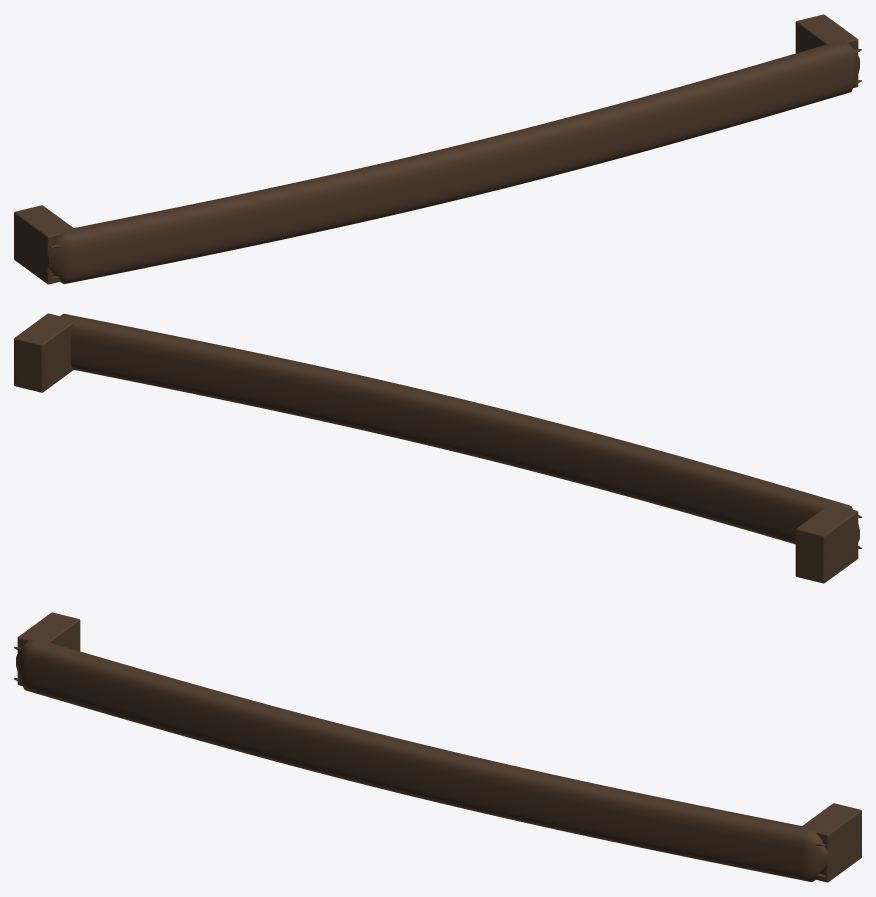
The model's file is eurofit-h-324-320orb-v3.glb.
The picture shows the model from 3 angles, top to bottom: view 1: azimuth 30°, elevation 25°; view 2: azimuth 150°, elevation 25°; view 3: azimuth 330°, elevation 25°; orthographic projection.
Visible parts, largest first — view 1: Raised arched grip, Mounting pedestal, Mounting pedestal.001; view 2: Raised arched grip, Mounting pedestal, Mounting pedestal.001; view 3: Raised arched grip, Mounting pedestal.001, Mounting pedestal.
Part boxes in pixels (bbox=[...]): Raised arched grip: bbox=[45, 41, 859, 283]; Mounting pedestal: bbox=[14, 205, 75, 284]; Mounting pedestal.001: bbox=[795, 14, 858, 87]; Raised arched grip: bbox=[60, 314, 859, 544]; Mounting pedestal: bbox=[795, 504, 858, 583]; Mounting pedestal.001: bbox=[14, 313, 75, 392]; Raised arched grip: bbox=[16, 639, 829, 881]; Mounting pedestal.001: bbox=[800, 803, 861, 882]; Mounting pedestal: bbox=[17, 612, 80, 685].
Bounding box in the file's own units: 0.332 × 0.019 × 0.038.
